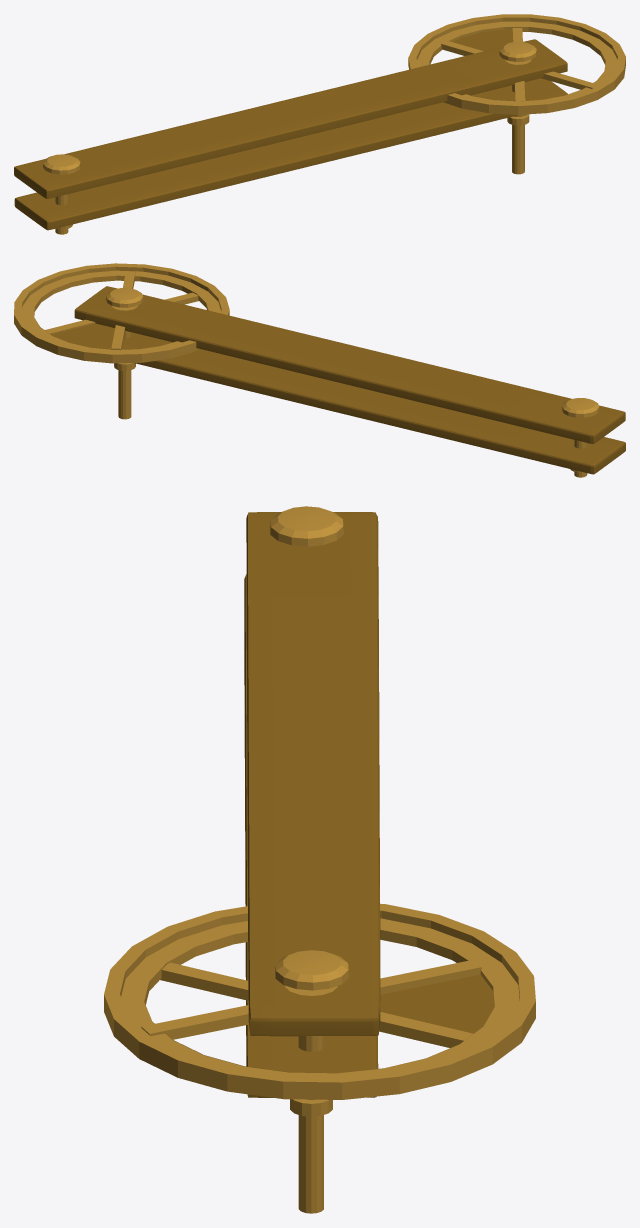
Rendered from xuanzhuan.fbx.
3 views of the same model, one above another, from view 1: azimuth 30°, elevation 25°; view 2: azimuth 150°, elevation 25°; view 3: azimuth 270°, elevation 25° (orthographic). The views are drawn at different scales.
Parts seen in each view (by area): view 1: 柱体.004; view 2: 柱体.004; view 3: 柱体.004.
Part boxes in pixels (left/top/right/bottom): 柱体.004: left=14, top=14, right=625, bottom=234; 柱体.004: left=14, top=263, right=625, bottom=477; 柱体.004: left=104, top=506, right=535, bottom=1213.
Size of the model in its own units: 311 by 63.13 by 100.
